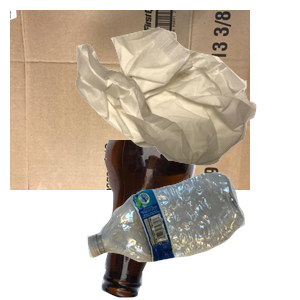cardboard: (10, 10, 250, 190)
glass: (99, 140, 300, 300)
plastic: (85, 170, 300, 300)
trash: (73, 25, 300, 183)
